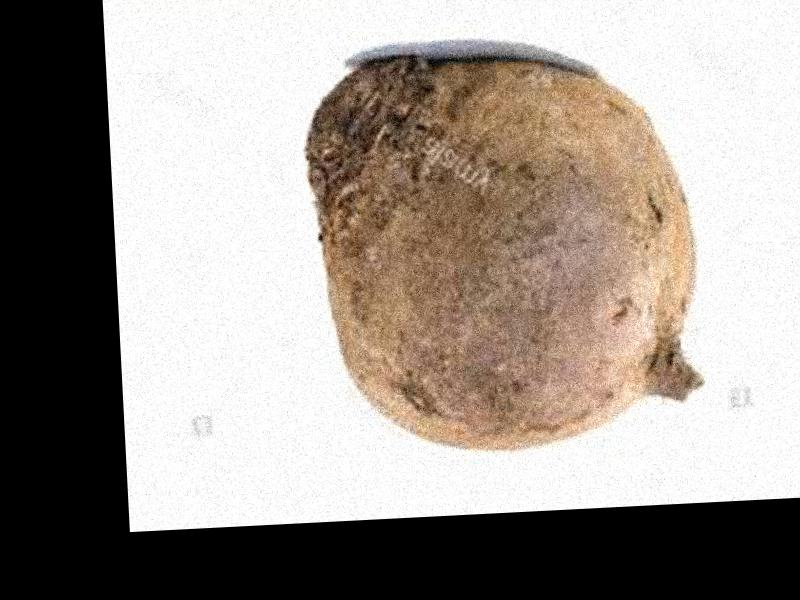Beet: (304, 43, 707, 459)
